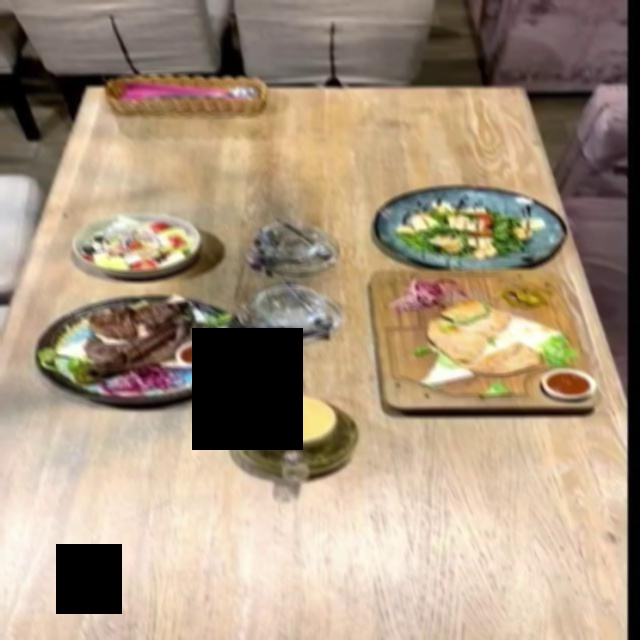meat: (368, 271, 603, 413), (33, 295, 249, 404)
salad: (375, 185, 568, 267), (70, 211, 201, 276)
tea: (230, 395, 359, 480)
